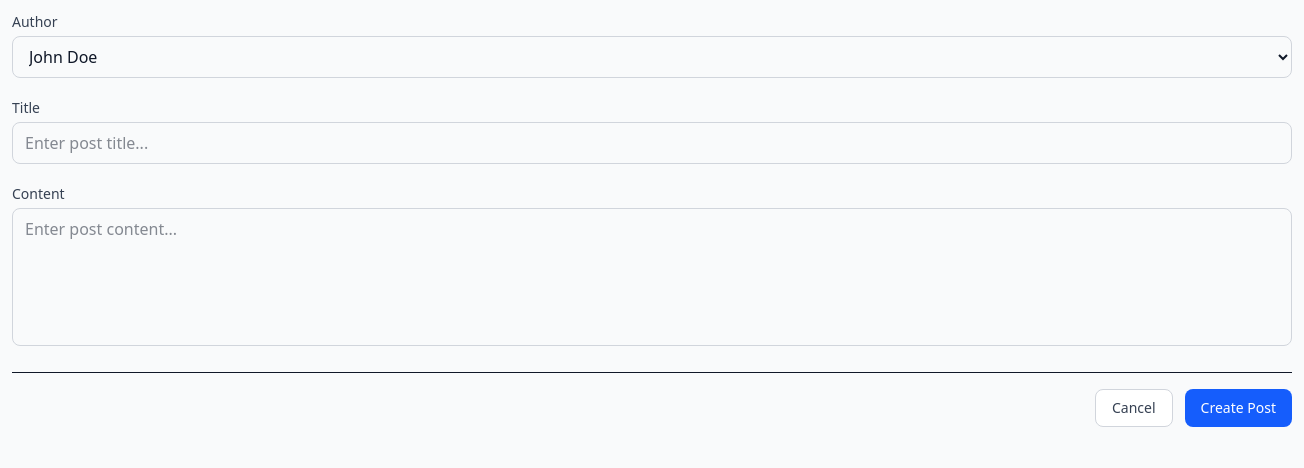
it: PostForm › validation › shows error when title is empty
The width and height of the screenshot is (1304, 468).
Type "This is valid content text" into the text box labelled "Content". click: point(652, 277)
box: 12,208 -> 1292,346
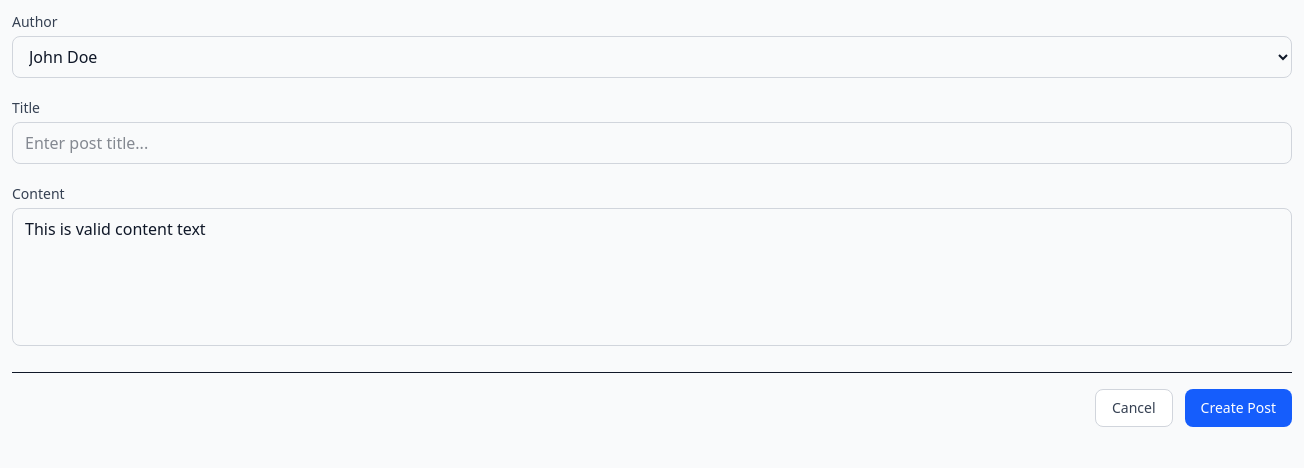
Click the button "Create Post". click: point(1238, 408)
box: 1185,389 -> 1292,427
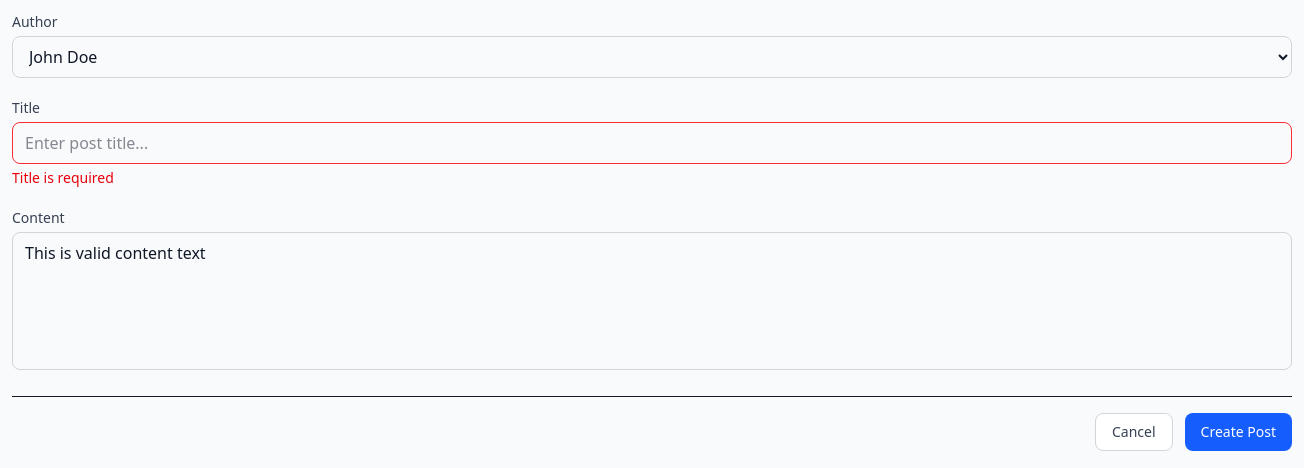
Check: the text "Title is required" is shown, box 12,168 -> 114,187
